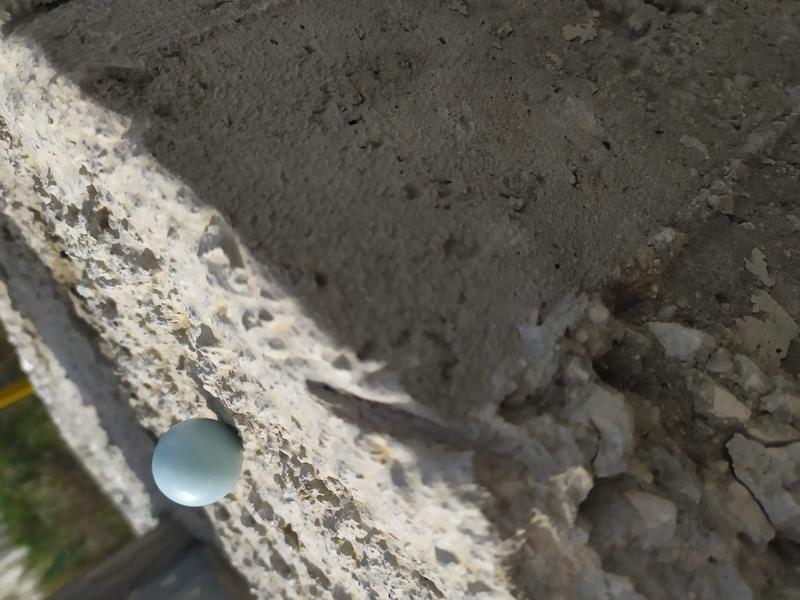Warning: (149, 416, 249, 510)
